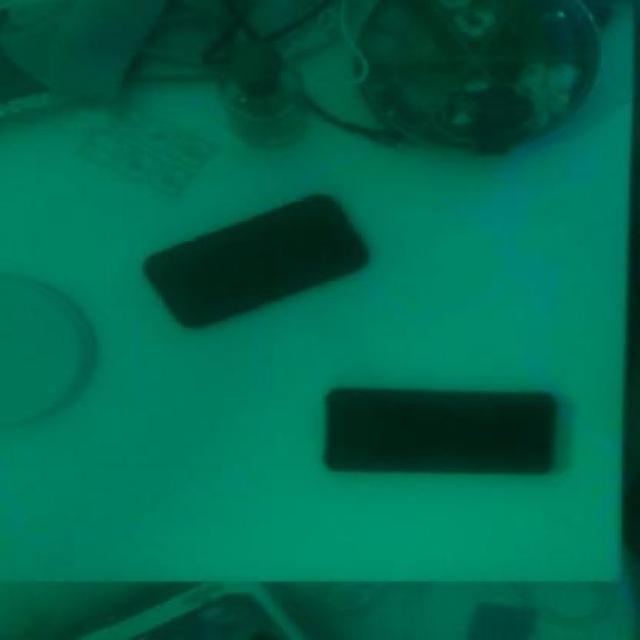phone: (138, 194, 374, 330), (322, 392, 556, 469)
